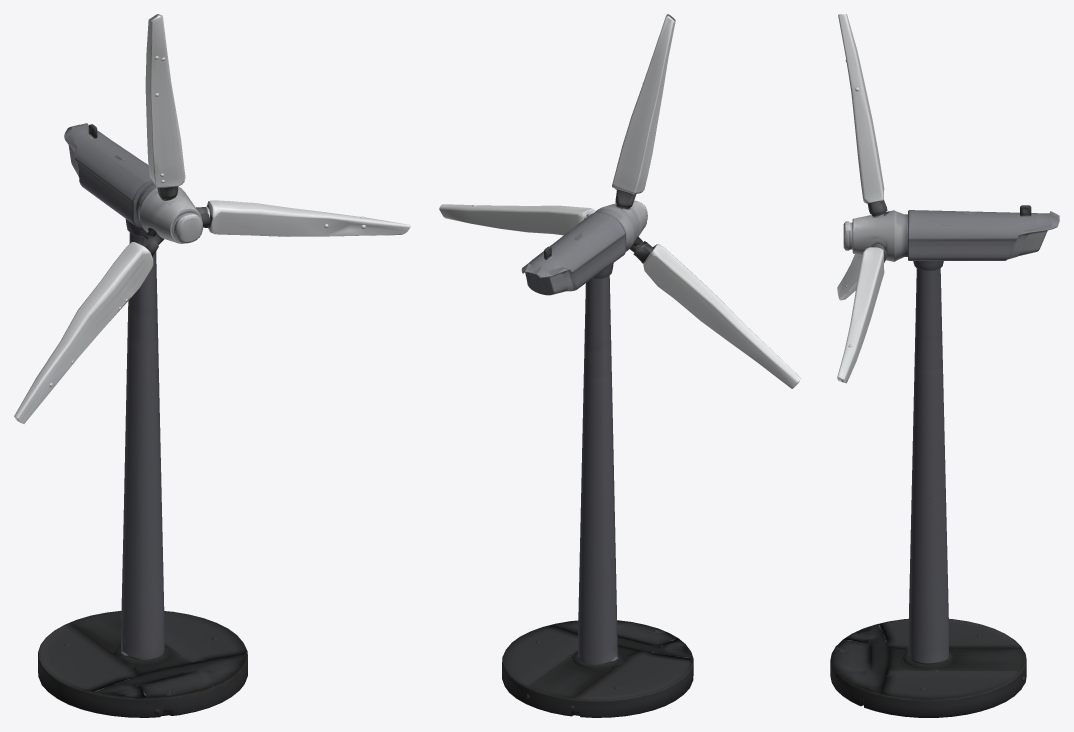
The model's file is low-poly+wind+turbine+3d+model.fbx.
3 views of the same model, side by side, from view 1: azimuth 30°, elevation 25°; view 2: azimuth 150°, elevation 25°; view 3: azimuth 270°, elevation 25° (orthographic). The views are drawn at different scales.
Parts seen in each view (by area): view 1: d5bf1ca6_503f_4bab_84ef_bfb22c6753c7; view 2: d5bf1ca6_503f_4bab_84ef_bfb22c6753c7; view 3: d5bf1ca6_503f_4bab_84ef_bfb22c6753c7.
Boxes of the visible parts, x1,y1,x2,y2 form: d5bf1ca6_503f_4bab_84ef_bfb22c6753c7: (14,14,410,717); d5bf1ca6_503f_4bab_84ef_bfb22c6753c7: (439,14,801,717); d5bf1ca6_503f_4bab_84ef_bfb22c6753c7: (830,14,1059,717).
Size of the model in its own units: 0.5894 by 0.9995 by 0.3198.
Materials: 1 (1 with a texture image).
